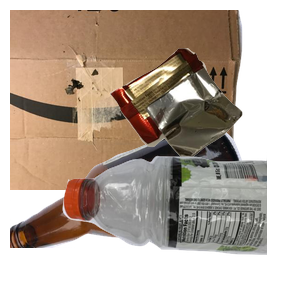cardboard: (10, 10, 245, 190)
glass: (10, 120, 247, 300)
plastic: (60, 152, 300, 300)
trash: (107, 46, 300, 198)
